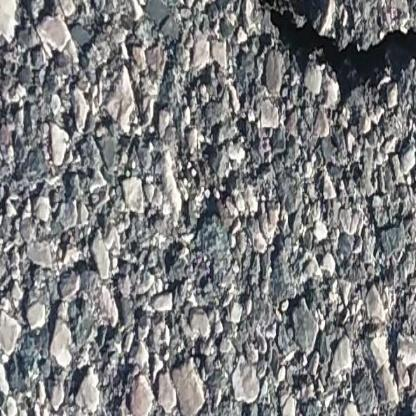Cracks: (227, 0, 416, 109)
